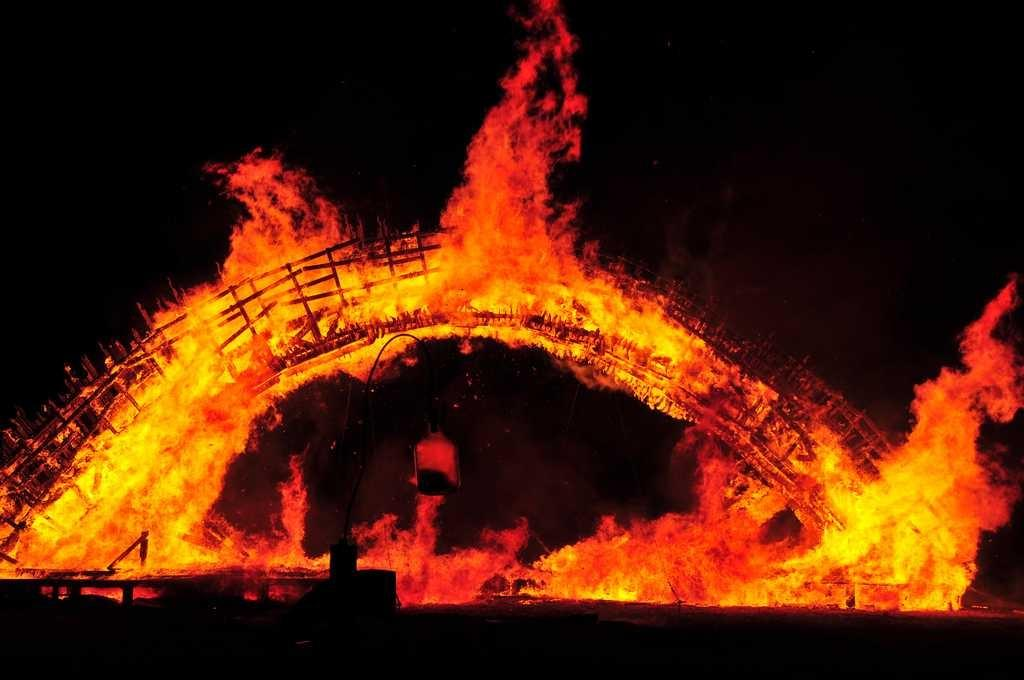fire: (77, 430, 213, 573), (837, 478, 938, 597), (462, 197, 545, 312), (158, 347, 270, 412)
